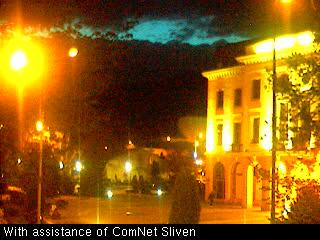person: (207, 191, 216, 207)
